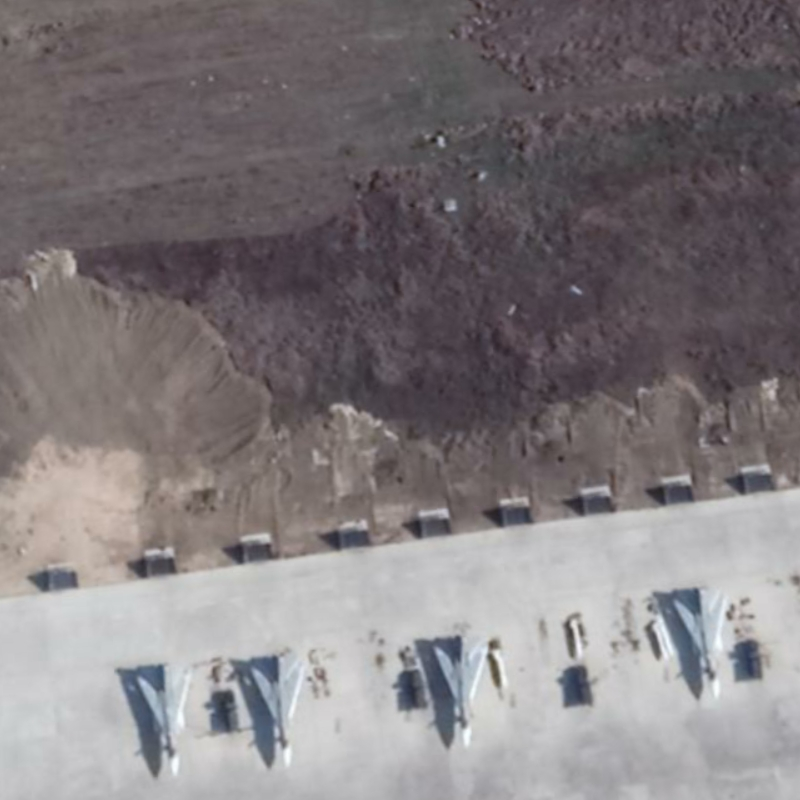A20: (131, 656, 200, 781), (669, 583, 736, 704), (243, 647, 307, 772), (422, 632, 488, 751)
